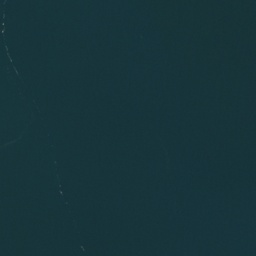Marine Debris: (0, 13, 7, 36)
